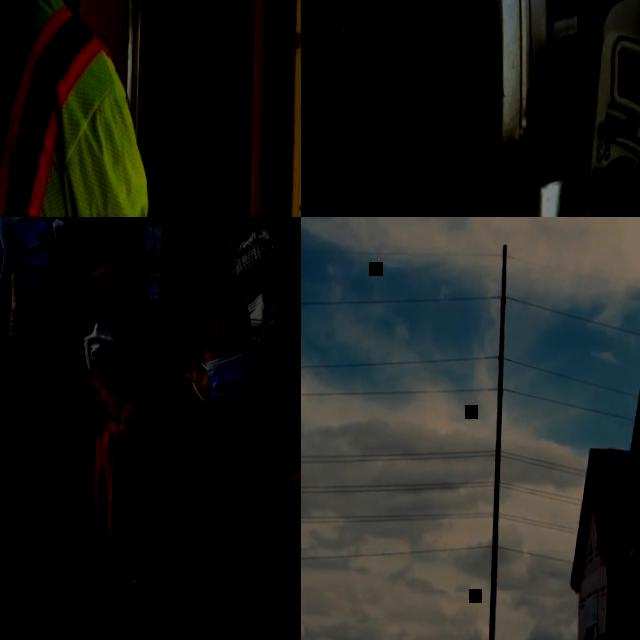mask: (0, 217, 57, 315), (202, 348, 258, 426), (246, 289, 289, 351), (81, 324, 122, 382), (50, 218, 68, 244), (110, 238, 124, 255)
no_helmet: (177, 271, 250, 336), (76, 262, 142, 320), (230, 226, 292, 284), (105, 217, 127, 229), (219, 217, 237, 226), (284, 238, 296, 250)
no_vest: (0, 277, 91, 640), (152, 432, 299, 640), (60, 371, 171, 640), (247, 344, 301, 601), (55, 256, 81, 304), (218, 245, 228, 268), (284, 250, 294, 272)
person: (0, 0, 238, 217), (218, 226, 301, 640), (214, 217, 239, 275), (283, 232, 294, 272)
vest: (0, 0, 179, 217)
